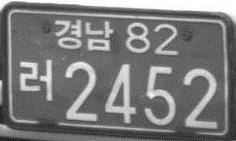2: (180, 66, 219, 130), (61, 60, 100, 123), (154, 23, 179, 57)
4: (103, 62, 137, 125)
5: (142, 63, 176, 127)
8: (125, 22, 150, 55)
경남_O: (53, 17, 113, 51)
러: (17, 57, 53, 104)
